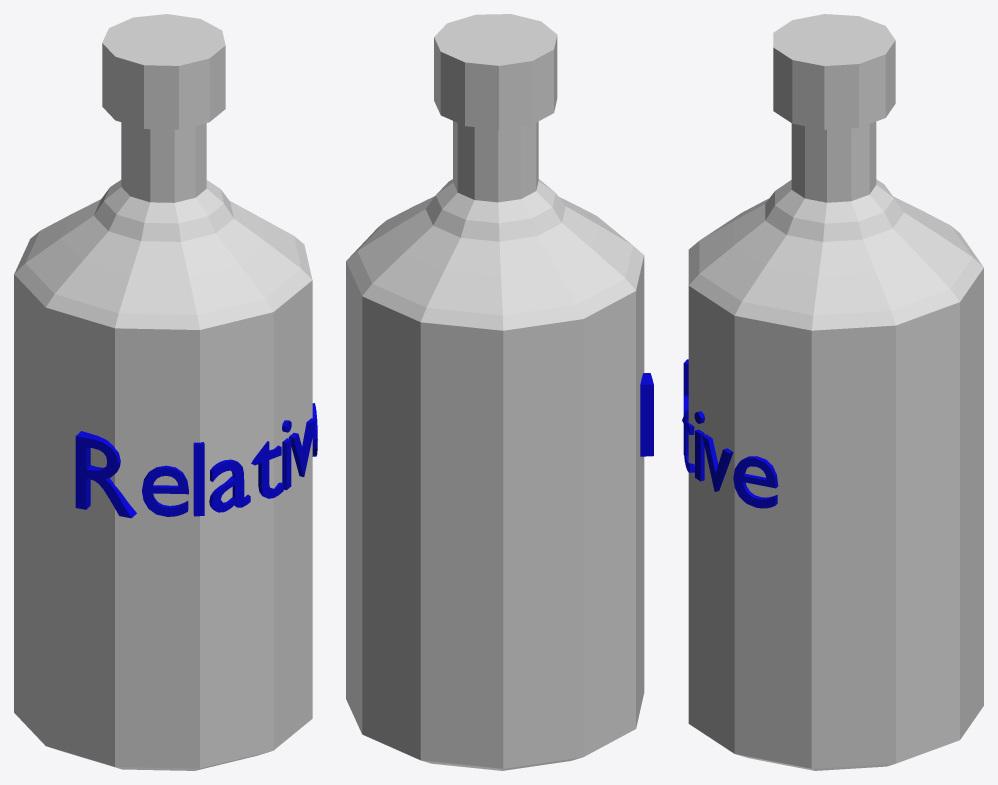
File: Vodka.fbx
3 views of the same model, side by side, from view 1: azimuth 30°, elevation 25°; view 2: azimuth 150°, elevation 25°; view 3: azimuth 270°, elevation 25° (orthographic).
Parts seen in each view (by area): view 1: VodkaItem, Text; view 2: VodkaItem, Text; view 3: VodkaItem, Text.
Part boxes in pixels (x1,y1,x2,y2): VodkaItem: (14,14,312,770); Text: (75,403,317,518); VodkaItem: (346,14,644,770); Text: (640,373,653,456); VodkaItem: (688,14,983,770); Text: (682,359,778,508).
Bounding box in the file's own units: 40.21 × 101 × 40.69.
